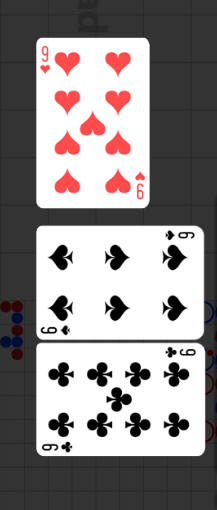9C: (42, 439, 76, 453)
9H: (134, 168, 147, 200), (41, 44, 53, 75)
